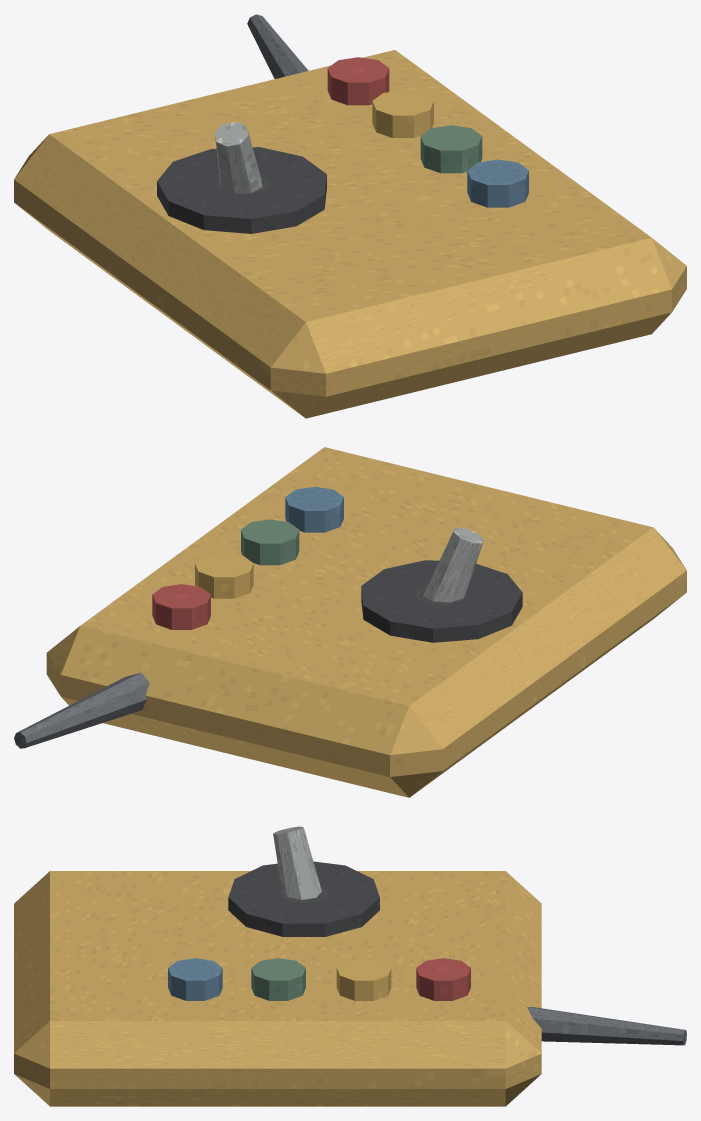
File: radiocontrol.glb
The picture shows the model from 3 angles, top to bottom: view 1: azimuth 30°, elevation 25°; view 2: azimuth 150°, elevation 25°; view 3: azimuth 270°, elevation 25°; orthographic projection. The views are drawn at different scales.
Parts seen in each view (by area): view 1: block_handheld control body, block_colored remote button (×4), block_recessed joystick gate, block_control stick, block_antenna; view 2: block_handheld control body, block_colored remote button (×4), block_recessed joystick gate, block_antenna, block_control stick; view 3: block_handheld control body, block_colored remote button (×4), block_recessed joystick gate, block_antenna, block_control stick.
Boxes of the visible parts, x1,y1,x2,y2 form: block_handheld control body: (14, 50, 686, 418); block_colored remote button (×4): (327, 57, 528, 207); block_recessed joystick gate: (157, 147, 326, 233); block_control stick: (214, 122, 262, 193); block_antenna: (247, 14, 308, 78); block_handheld control body: (46, 447, 686, 797); block_colored remote button (×4): (152, 486, 343, 629); block_recessed joystick gate: (361, 560, 522, 642); block_antenna: (14, 672, 149, 748); block_control stick: (423, 527, 483, 602); block_handheld control body: (14, 871, 541, 1106); block_colored remote button (×4): (168, 958, 470, 1000); block_recessed joystick gate: (228, 861, 379, 936); block_antenna: (527, 1007, 686, 1045); block_control stick: (273, 826, 321, 899).
Size of the model in its own units: 0.0956 by 0.0389 by 0.1508.
1 material, 1 textured.
